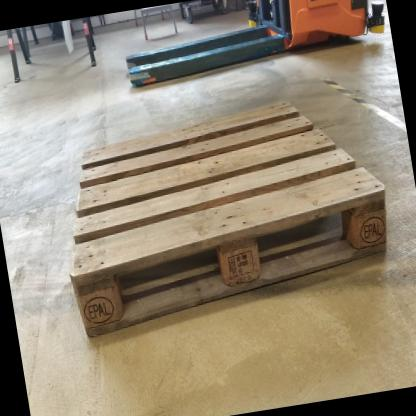BoxFace: (32, 84, 412, 343)
